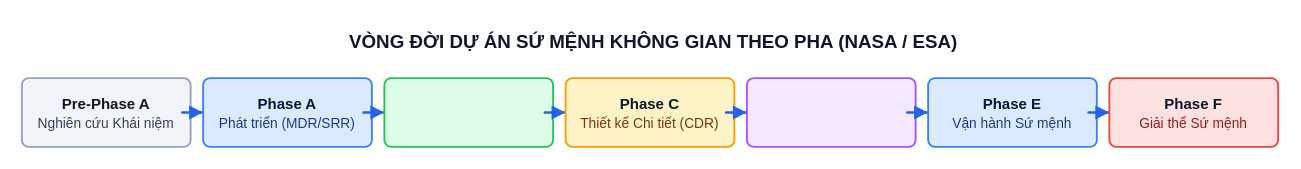
Image size: 1301x169. Some labels were removed from this diagram. The centre of each missing label's shape, as x and y in pixels:
"Phase B Thiết kế Sơ bộ (PDR)" belongs at (468,112).
"Phase D Tích hợp AIT (AR/FRR)" belongs at (830,112).
